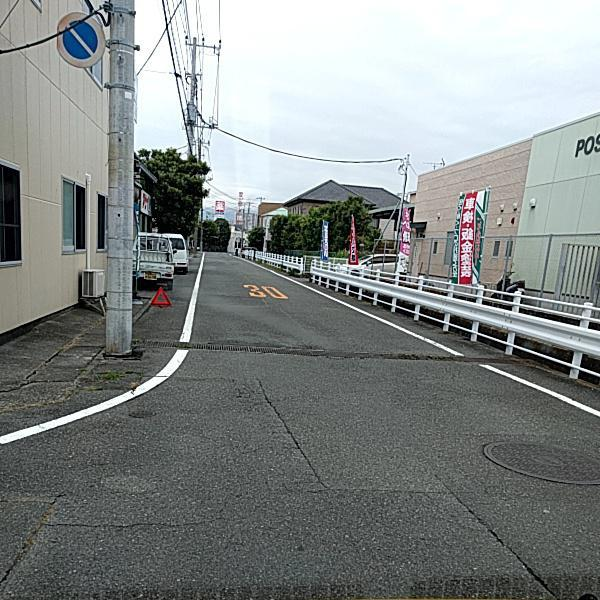D00: (255, 375, 327, 488)
D10: (37, 509, 226, 533)
D50: (492, 437, 599, 489), (125, 403, 158, 419)
